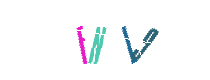9: (99, 0, 179, 80)
F: (42, 0, 122, 80)
L: (66, 0, 146, 80)
N: (64, 0, 144, 80)
